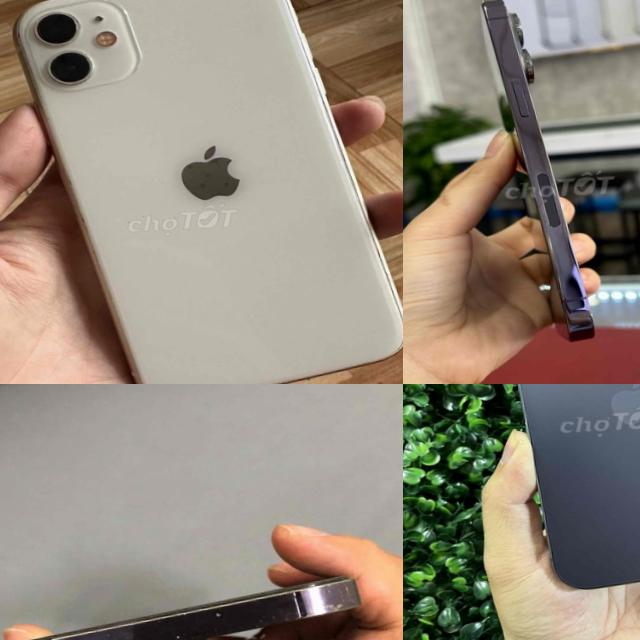gen_11: (11, 0, 403, 384)
gen_14: (474, 0, 607, 356), (499, 384, 640, 603)
scratch: (0, 573, 372, 640), (66, 603, 214, 631), (282, 594, 376, 622), (209, 608, 245, 624), (165, 628, 197, 640)
